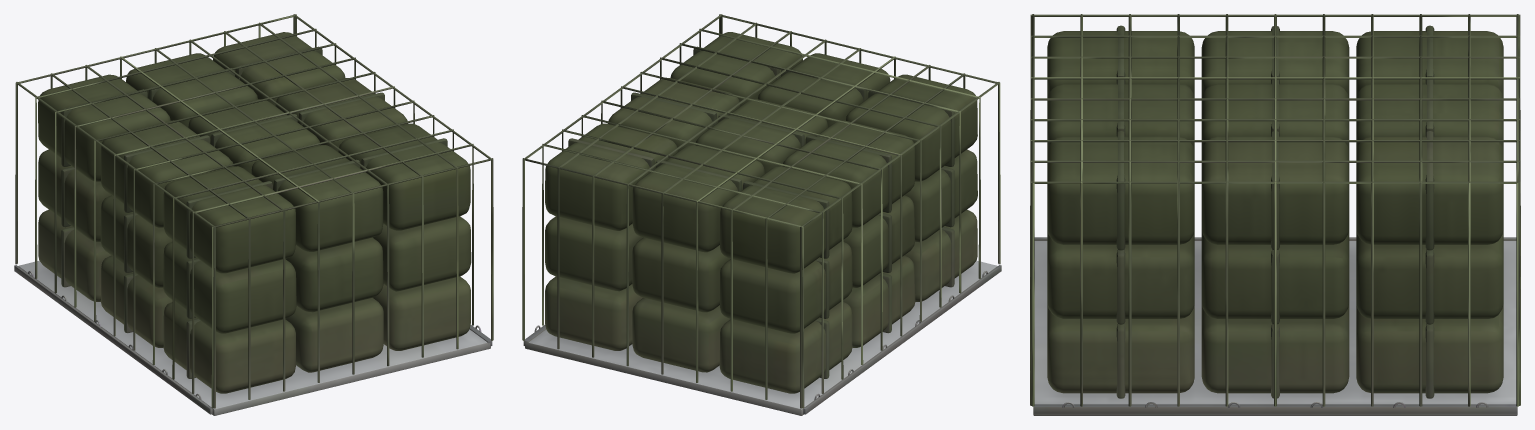
Rendered from rdmss-stowed.glb.
3 views of the same model, side by side, from view 1: azimuth 30°, elevation 25°; view 2: azimuth 150°, elevation 25°; view 3: azimuth 270°, elevation 25° (orthographic). The views are drawn at different scales.
Visible parts, largest first — view 1: RDMSS_packed; view 2: RDMSS_packed; view 3: RDMSS_packed.
Part boxes in pixels (bbox=[...]): RDMSS_packed: bbox=[14, 14, 493, 415]; RDMSS_packed: bbox=[522, 14, 1001, 415]; RDMSS_packed: bbox=[1030, 14, 1520, 415].
Bounding box in the file's own units: 2.28 × 1.47 × 2.78.
5 materials, 5 textured.
